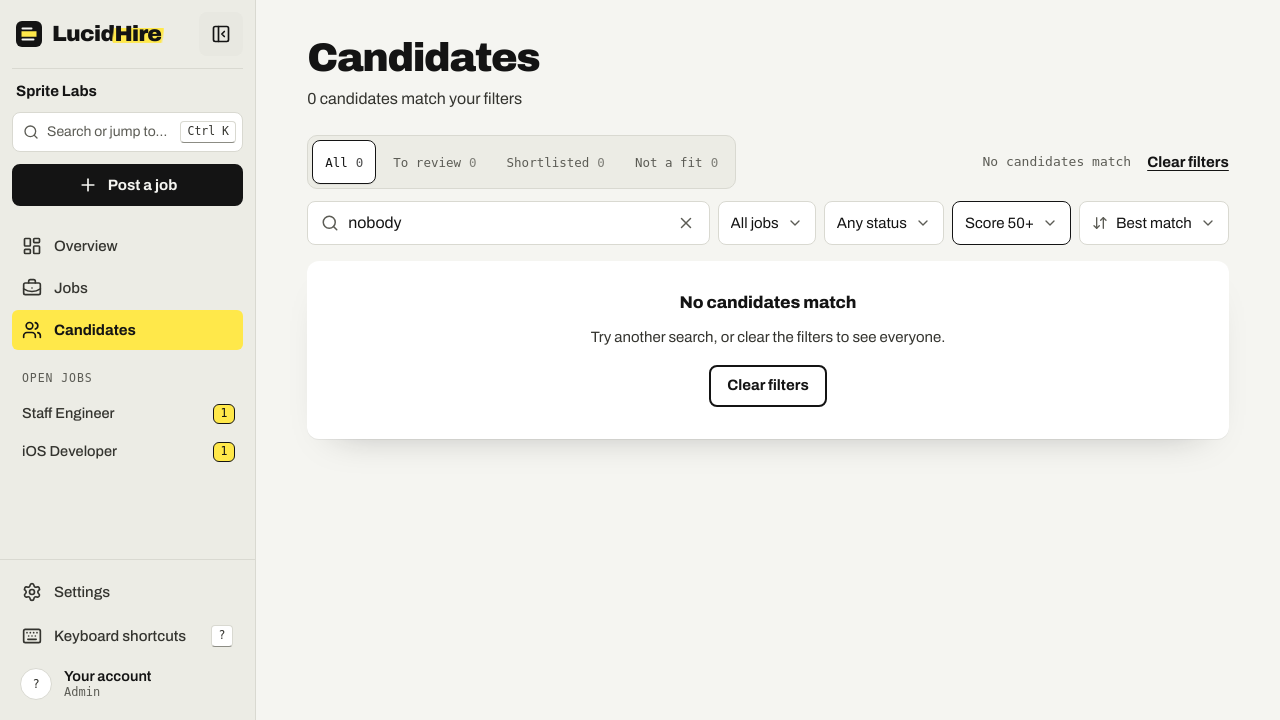
Test: when nothing is listed › offers to clear filters that match no one
The width and height of the screenshot is (1280, 720).
Expected: the heading "No candidates match" is shown, 680,293 -> 856,314
Click the 2nd button "Clear filters" at [768, 386], box 709,365 -> 827,407
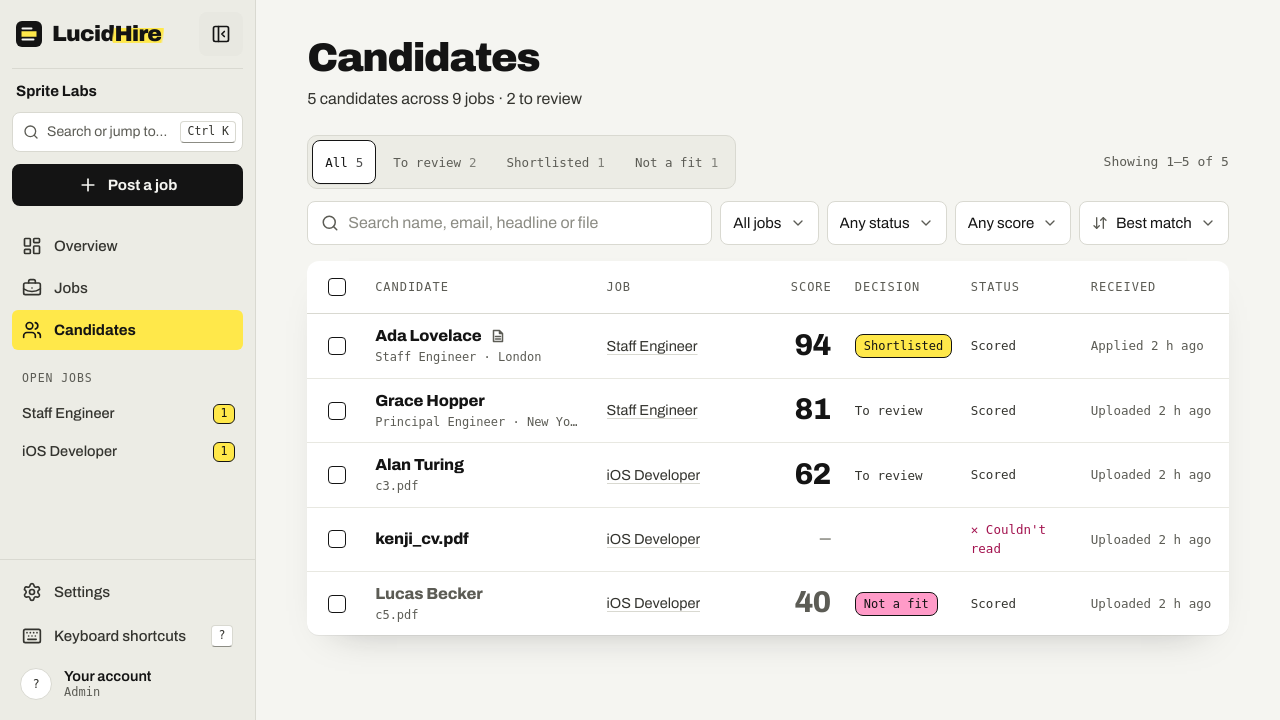
Now the table named "Candidates across your jobs" is shown, box 307,261 -> 1229,635
